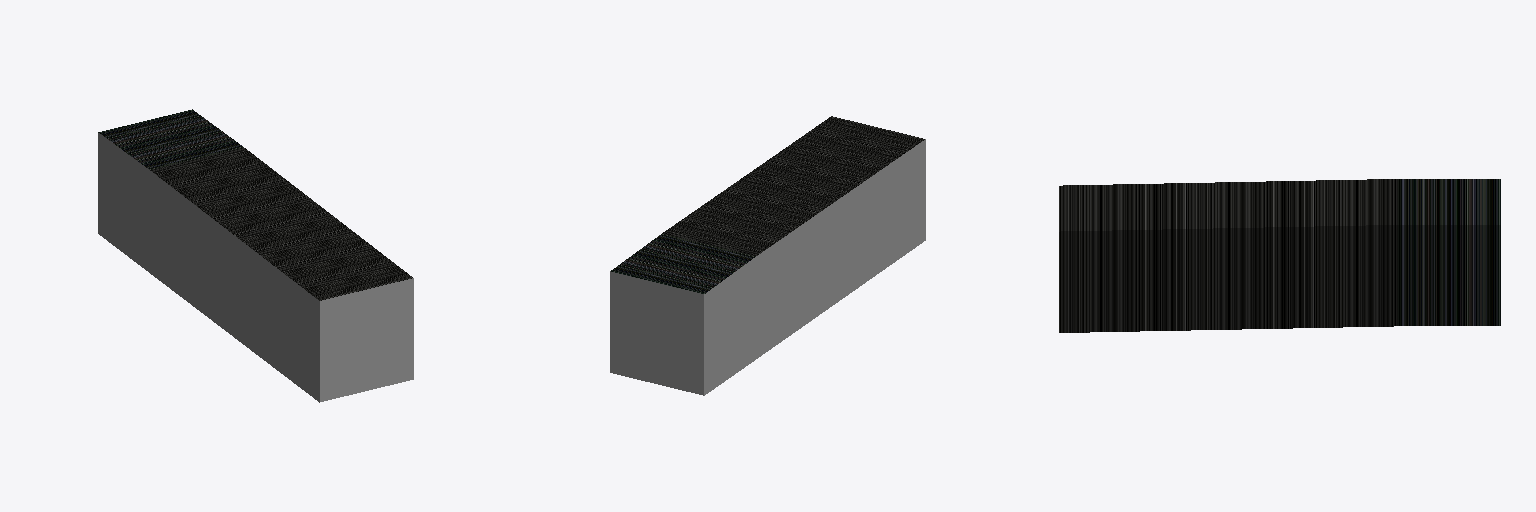
3 renders of one model, left to right at view 1: azimuth 30°, elevation 25°; view 2: azimuth 150°, elevation 25°; view 3: azimuth 270°, elevation 25°, orthographic.
Parts seen in each view (by area): view 1: Plane.004; view 2: Plane.004; view 3: Plane.004.
Part boxes in pixels (left/top/right/bottom): Plane.004: left=98, top=109, right=413, bottom=402; Plane.004: left=610, top=116, right=925, bottom=395; Plane.004: left=1059, top=179, right=1500, bottom=332.
Bounding box in the file's own units: 73.75 × 80.98 × 300.
Materials: 2 (1 with a texture image).